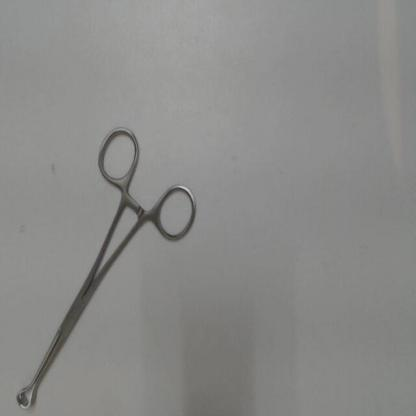Babcock Tissue Forceps: (13, 118, 201, 412)
